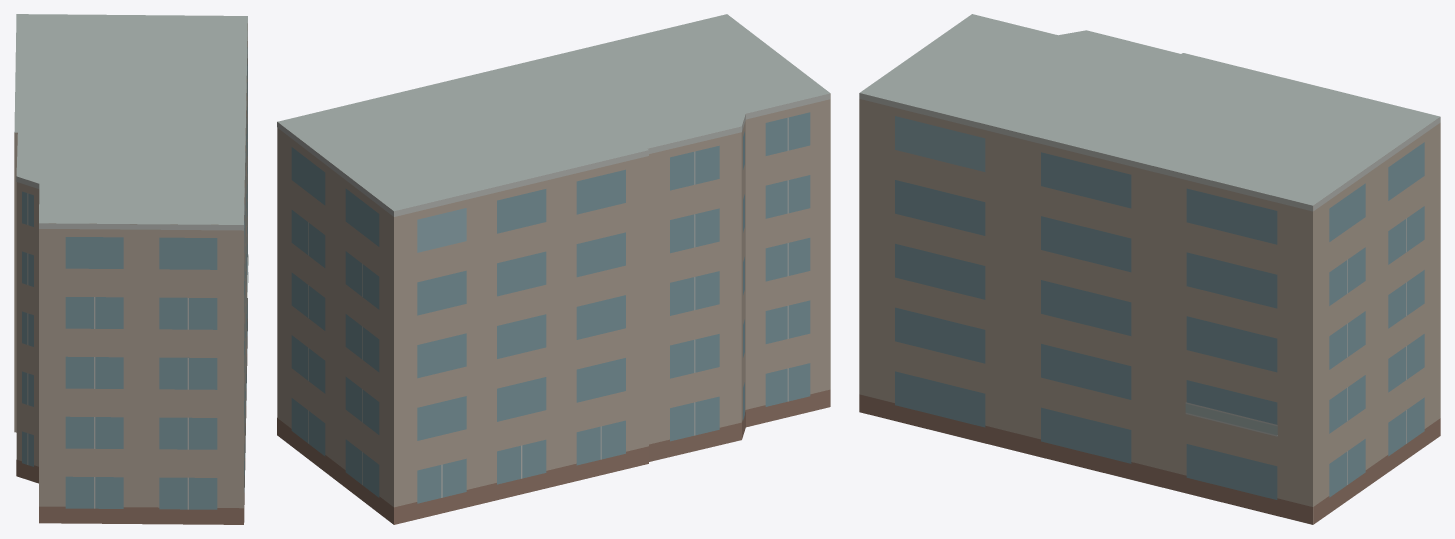
File: survey-upis-32653318.glb
3 views of the same model, side by side, from view 1: azimuth 30°, elevation 25°; view 2: azimuth 150°, elevation 25°; view 3: azimuth 270°, elevation 25° (orthographic). The views are drawn at different scales.
Visible parts, largest first — view 1: survey-upis-32653318.tmp; view 2: survey-upis-32653318.tmp; view 3: survey-upis-32653318.tmp.
Boxes of the visible parts, x1,y1,x2,y2 form: survey-upis-32653318.tmp: (14, 14, 248, 524); survey-upis-32653318.tmp: (277, 14, 830, 524); survey-upis-32653318.tmp: (859, 14, 1440, 524).
Bounding box in the file's own units: 17.14 × 13.3 × 21.96.
